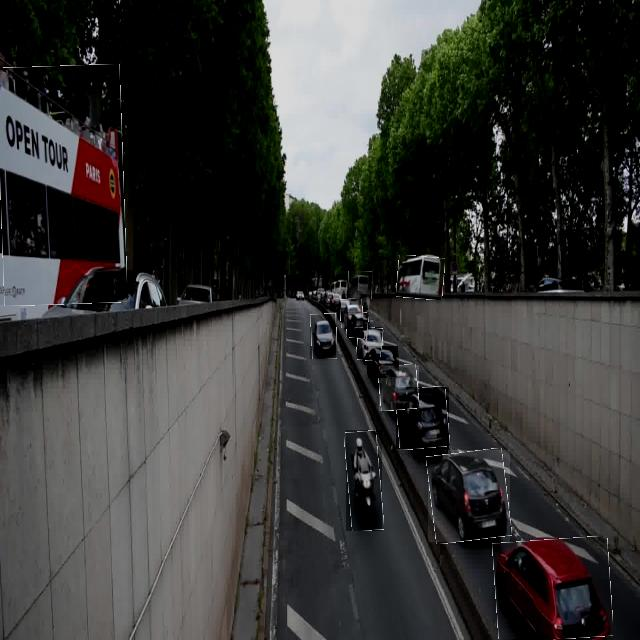Bus: (0, 65, 125, 305), (397, 256, 445, 299), (348, 271, 372, 299)
Car: (493, 538, 611, 640), (428, 450, 510, 542), (396, 387, 449, 449), (379, 365, 419, 411), (310, 314, 336, 359), (367, 346, 399, 378), (358, 327, 382, 360), (341, 299, 363, 328), (347, 312, 369, 338)
Motorcycle: (347, 430, 382, 531)
